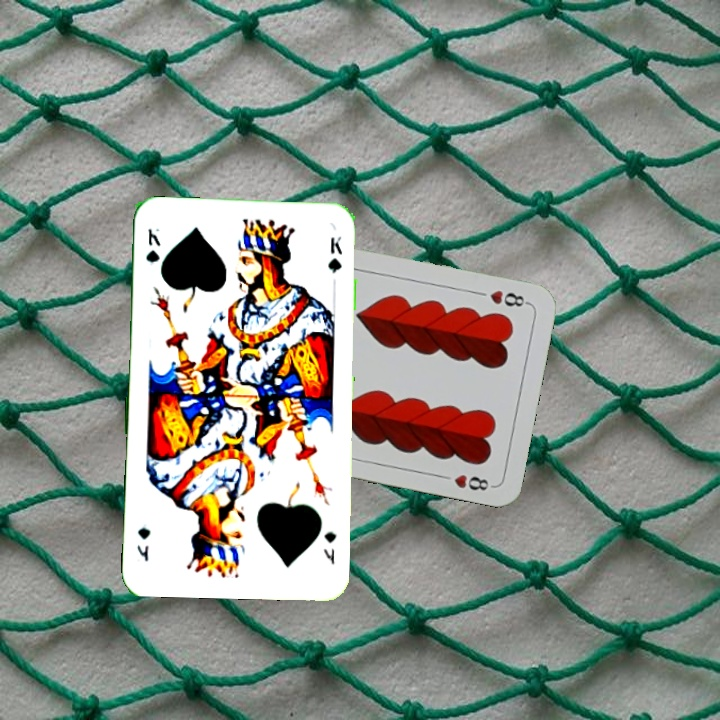GK: (142, 224, 164, 265), (320, 528, 339, 567)
H8: (485, 286, 531, 310)
